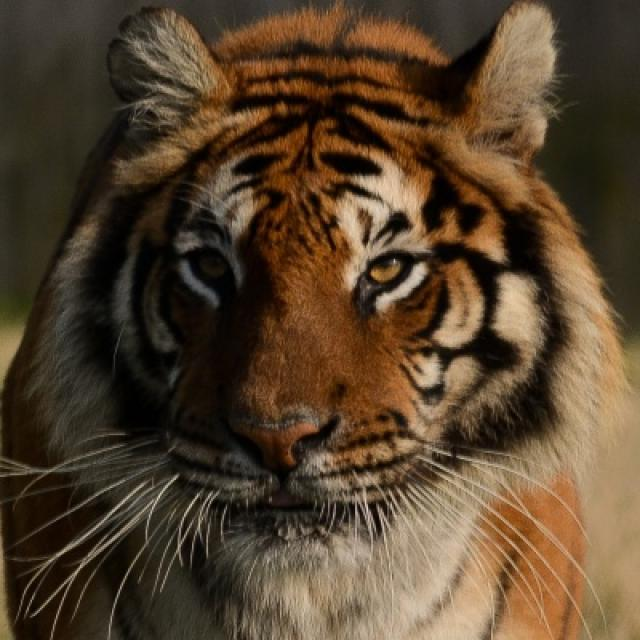Tiger: (0, 2, 624, 638)
